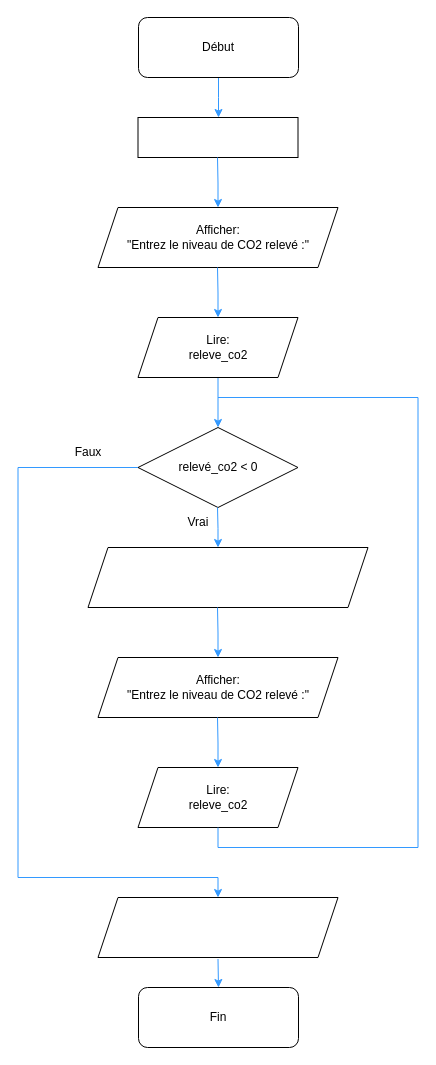
The diagram is 436 pixels wide and 1065 high, and some of its shapes have lost their labels. Each missing label, with the centre of its shape:
Afficher: "Le niveau de CO2 ne peut être négatif.": point 227,577
Afficher: "Le niveau de CO2 relevé est de : ", releve_co2: point 217,927
Variable : releve_co2: point 217,137
